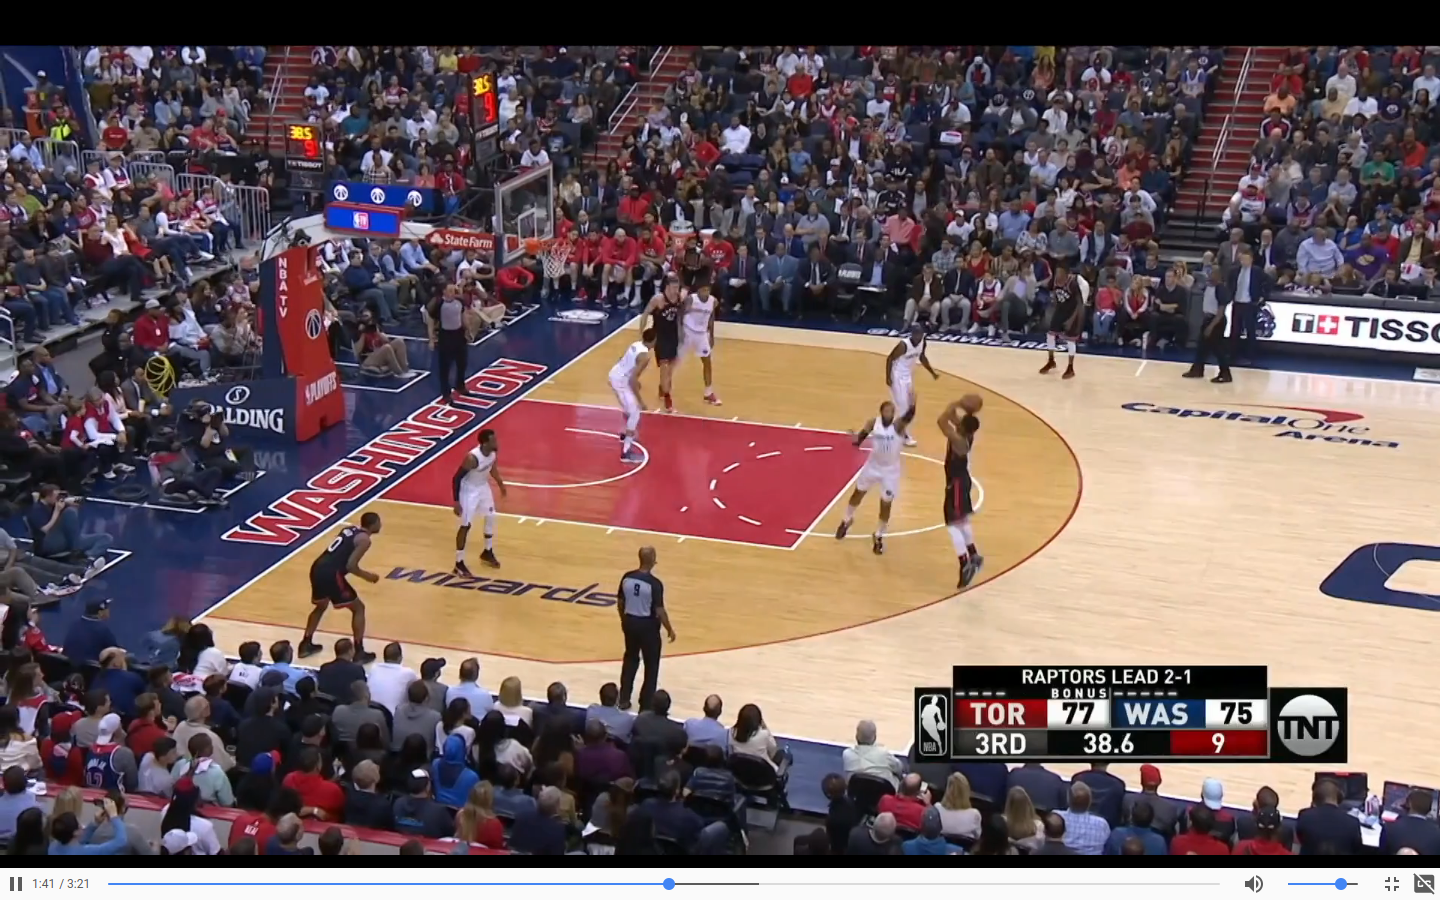basketball: (953, 392, 988, 417)
basketball player: (292, 503, 388, 671), (832, 397, 921, 563), (448, 422, 515, 588), (936, 392, 988, 596), (867, 317, 936, 448), (604, 325, 662, 477), (635, 279, 688, 422), (1041, 263, 1090, 389), (682, 283, 725, 412)
referee: (605, 540, 676, 716), (424, 285, 476, 411), (1187, 262, 1236, 392)
